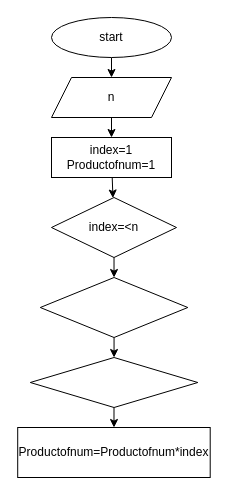
Some shapes in this 228 by 495 pixel diagram are drawn without their labels. Each missing label, with the box of its shape:
index делится на 3: (39, 276, 188, 338)
index делится на 5: (29, 356, 198, 408)
